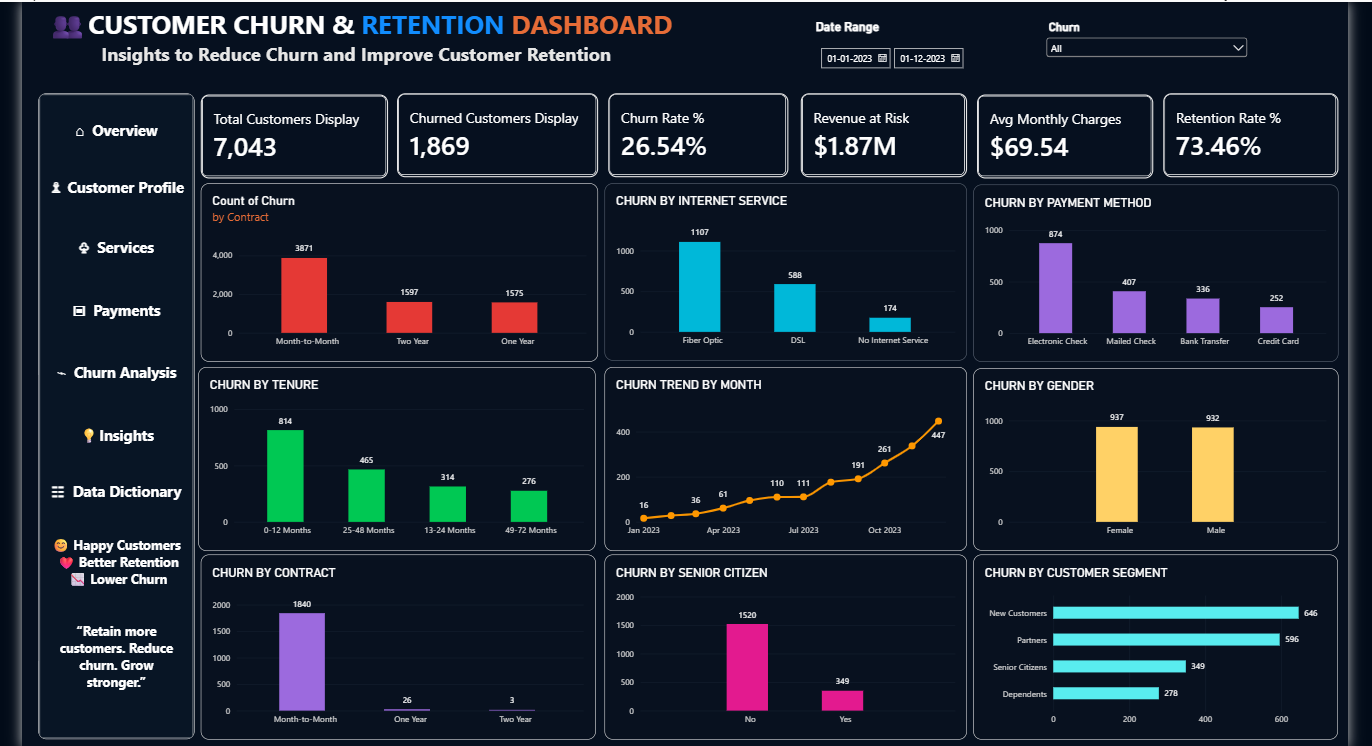

The dashboard page shown, as its layout file describes it:
{"tool":"powerbi","page":{"name":"Page 1","canvas":[1920,1080],"ordinal":0},"visuals":[{"type":"shape","box":[23.5,132.1,226.2,935.6],"z":0},{"type":"textbox","box":[38,170.1,197.3,52.5],"z":1000},{"type":"textbox","box":[38,253.4,197.3,67],"z":2000},{"type":"textbox","box":[38,340.2,197.3,50.7],"z":3000},{"type":"textbox","box":[38,430.7,197.3,67],"z":4000},{"type":"textbox","box":[38,521.2,197.3,50.7],"z":5000},{"type":"textbox","box":[38,611.7,197.3,54.3],"z":6000},{"type":"textbox","box":[38,693.1,197.3,59.7],"z":7000},{"type":"textbox","box":[9,0,950.1,132.1],"z":8000},{"type":"cardVisual","fields":{"Data":["Customer_Churn_Data.Total Customers Display"]},"box":[258.8,133.9,271.4,121.2],"z":9000},{"type":"cardVisual","fields":{"Data":["Customer_Churn_Data.Churned Customers Display"]},"box":[542.9,132.1,291.4,121.2],"z":10000},{"type":"cardVisual","fields":{"Data":["Customer_Churn_Data.Churn Rate %"]},"box":[848.7,132.1,260.6,121.2],"z":11000},{"type":"cardVisual","fields":{"Data":["Customer_Churn_Data.Revenue at Risk"]},"box":[1127.4,132.1,240.7,121.2],"z":12000},{"type":"cardVisual","fields":{"Data":["Customer_Churn_Data.Avg Monthly Charges"]},"box":[1382.6,133.9,255.2,121.2],"z":13000},{"type":"cardVisual","fields":{"Data":["Customer_Churn_Data.Retention Rate %"]},"box":[1652.2,132.1,253.4,121.2],"z":14000},{"type":"clusteredColumnChart","fields":{"Category":["Customer_Churn_Data.Contract"],"Y":["CountNonNull(Customer_Churn_Data.Churn)"]},"box":[258.8,262.4,575.5,258.8],"z":15000},{"type":"clusteredColumnChart","title":"CHURN BY INTERNET SERVICE","fields":{"Category":["Customer_Churn_Data.Internet_Service"],"Y":["Customer_Churn_Data.Churned Customers"]},"box":[843.3,262.4,524.8,257],"z":16000},{"type":"clusteredColumnChart","title":"CHURN BY PAYMENT METHOD","fields":{"Category":["Customer_Churn_Data.Payment_Method"],"Y":["Customer_Churn_Data.Churned Customers"]},"box":[1377.2,264.2,528.4,257],"z":16001},{"type":"clusteredColumnChart","title":"CHURN BY TENURE","fields":{"Category":["Customer_Churn_Data.Tenure_Band"],"Y":["Customer_Churn_Data.Churned Customers"]},"box":[255.2,528.4,575.5,266],"z":16002},{"type":"lineChart","title":"CHURN TREND BY MONTH","fields":{"Y":["Customer_Churn_Data.Churned Customers"],"Category":["Customer_Churn_Data.Churn_Month"]},"box":[843.3,528.4,524.8,266],"z":16003},{"type":"clusteredColumnChart","title":"CHURN BY GENDER","fields":{"Category":["Customer_Churn_Data.Gender"],"Y":["Customer_Churn_Data.Churned Customers"]},"box":[1377.2,530.2,528.4,264.2],"z":16004},{"type":"clusteredColumnChart","title":"CHURN BY CONTRACT","fields":{"Category":["Customer_Churn_Data.Contract"],"Y":["Customer_Churn_Data.Churned Customers"]},"box":[258.8,799.9,571.9,267.8],"z":16005},{"type":"clusteredColumnChart","title":"CHURN BY SENIOR CITIZEN","fields":{"Category":["Customer_Churn_Data.Senior_Citizen"],"Y":["Customer_Churn_Data.Churned Customers"]},"box":[843.3,799.9,524.8,267.8],"z":16006},{"type":"textbox","box":[38,772.7,197.3,124.9],"z":16008},{"type":"textbox","box":[38,897.6,197.3,128.5],"z":16009},{"type":"clusteredBarChart","title":"CHURN BY CUSTOMER SEGMENT","fields":{"Y":["Customer_Churn_Data.Churned Customers"],"Category":["Customer_Churn_Data.Customer_Segment"]},"box":[1377,800,528,268],"z":16010},{"type":"slicer","title":"Date Range","fields":{"Values":["Customer_Churn_Data.Join_Month"]},"box":[1149.1,25.3,262.4,81.4],"z":16011},{"type":"slicer","fields":{"Values":["Customer_Churn_Data.Churn"]},"box":[1478.5,25.3,300.4,85.1],"z":16012}]}

Visuals, with their boxes in screenshot pixels (x1, y1, x2, y2):
shape: 17, 90, 177, 745
textbox: 27, 117, 166, 154
textbox: 27, 176, 166, 223
textbox: 27, 237, 166, 273
textbox: 27, 301, 166, 348
textbox: 27, 365, 166, 401
textbox: 27, 429, 166, 467
textbox: 27, 486, 166, 529
textbox: 6, 0, 678, 90
cardVisual - Customer_Churn_Data.Total Customers Display: 183, 91, 375, 177
cardVisual - Customer_Churn_Data.Churned Customers Display: 384, 90, 590, 175
cardVisual - Customer_Churn_Data.Churn Rate %: 600, 90, 784, 175
cardVisual - Customer_Churn_Data.Revenue at Risk: 797, 90, 967, 175
cardVisual - Customer_Churn_Data.Avg Monthly Charges: 977, 91, 1158, 177
cardVisual - Customer_Churn_Data.Retention Rate %: 1168, 90, 1347, 175
clusteredColumnChart - Customer_Churn_Data.Contract x CountNonNull(Customer_Churn_Data.Churn): 183, 182, 590, 365
"CHURN BY INTERNET SERVICE" clusteredColumnChart: 596, 182, 967, 364
"CHURN BY PAYMENT METHOD" clusteredColumnChart: 974, 183, 1347, 365
"CHURN BY TENURE" clusteredColumnChart: 180, 370, 587, 558
"CHURN TREND BY MONTH" lineChart: 596, 370, 967, 558
"CHURN BY GENDER" clusteredColumnChart: 974, 371, 1347, 558
"CHURN BY CONTRACT" clusteredColumnChart: 183, 562, 587, 745
"CHURN BY SENIOR CITIZEN" clusteredColumnChart: 596, 562, 967, 745
textbox: 27, 543, 166, 631
textbox: 27, 631, 166, 722
"CHURN BY CUSTOMER SEGMENT" clusteredBarChart: 973, 562, 1347, 745
"Date Range" slicer: 812, 14, 998, 72
slicer - Customer_Churn_Data.Churn: 1045, 14, 1258, 74
